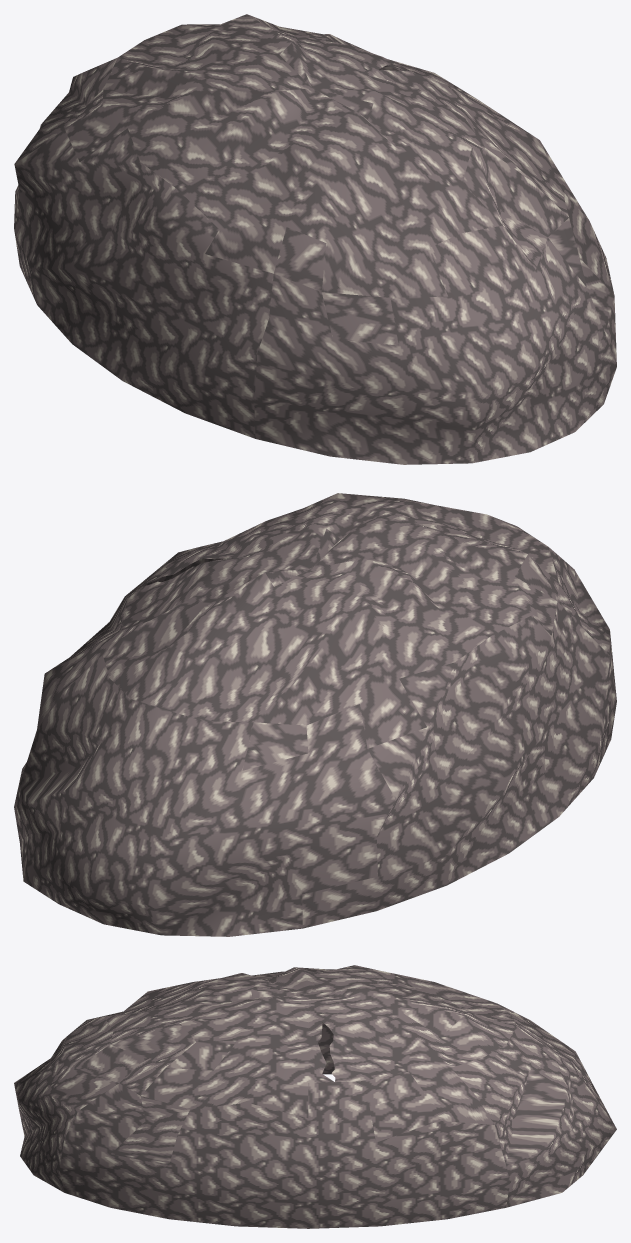
The model's file is Cave_FirstDraft.fbx.
The picture shows the model from 3 angles, top to bottom: view 1: azimuth 30°, elevation 25°; view 2: azimuth 150°, elevation 25°; view 3: azimuth 270°, elevation 25°; orthographic projection. The views are drawn at different scales.
Visible parts, largest first — view 1: pSphere1; view 2: pSphere1; view 3: pSphere1.
Part boxes in pixels (x1=…): pSphere1: x1=14, y1=14, x2=616, y2=464; pSphere1: x1=14, y1=493, x2=616, y2=936; pSphere1: x1=14, y1=965, x2=616, y2=1228.
Bounding box in the file's own units: 18.13 × 9.17 × 29.59.
1 material, 1 textured.
